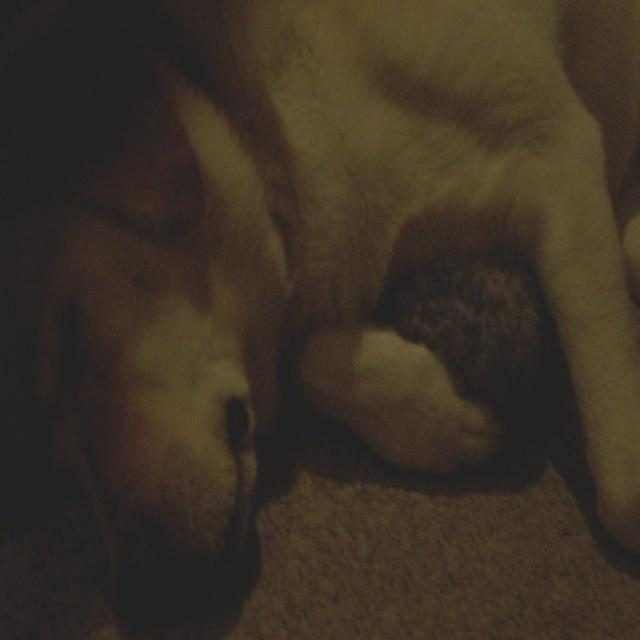dog: (0, 15, 640, 596)
